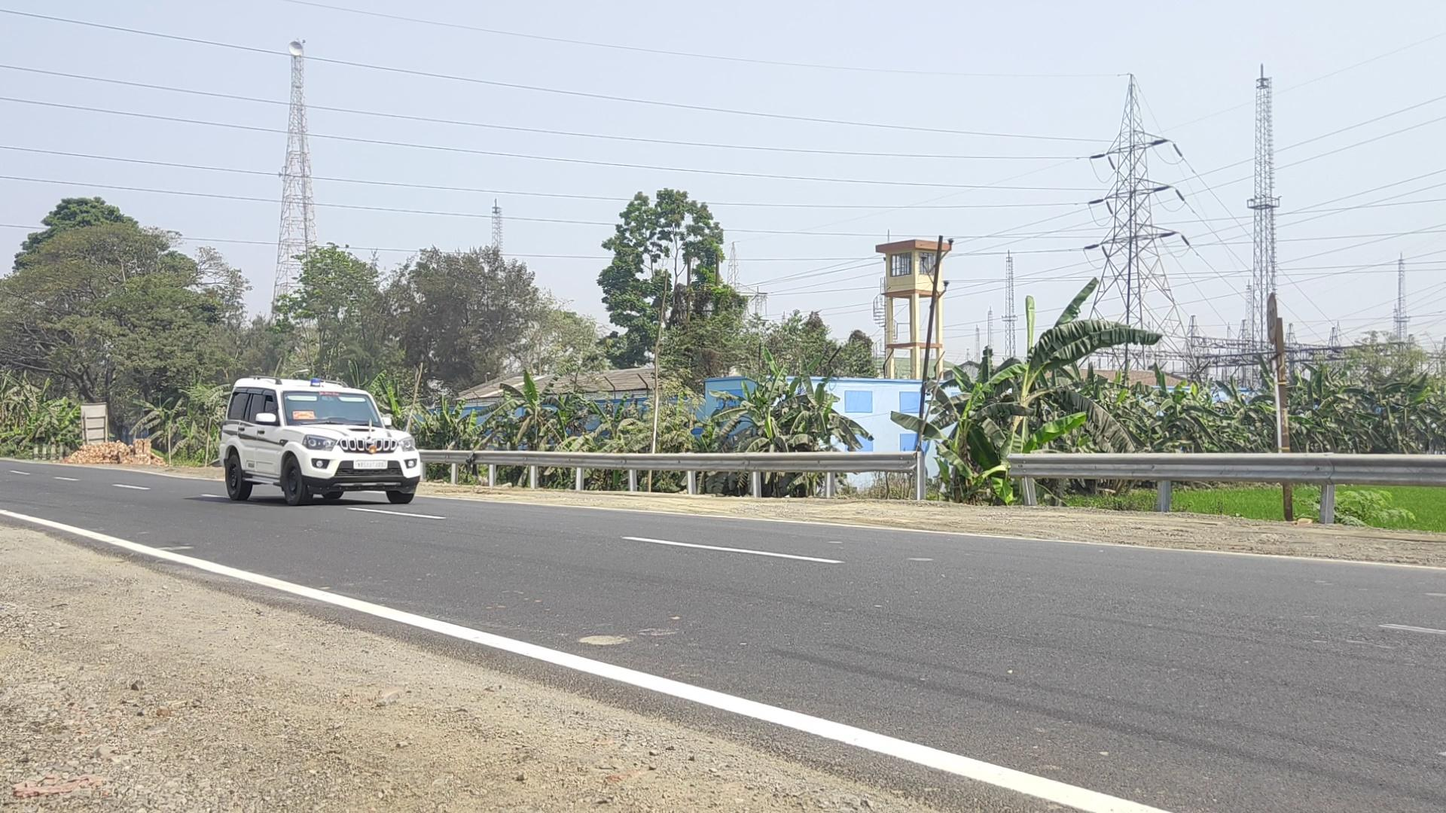car: (219, 375, 421, 507)
